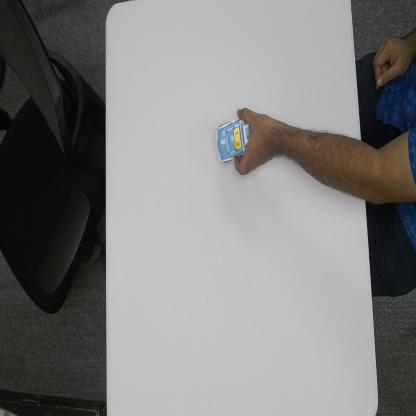Arm: (280, 122, 366, 204)
Car: (216, 117, 252, 166)
Hand: (233, 104, 279, 178)
